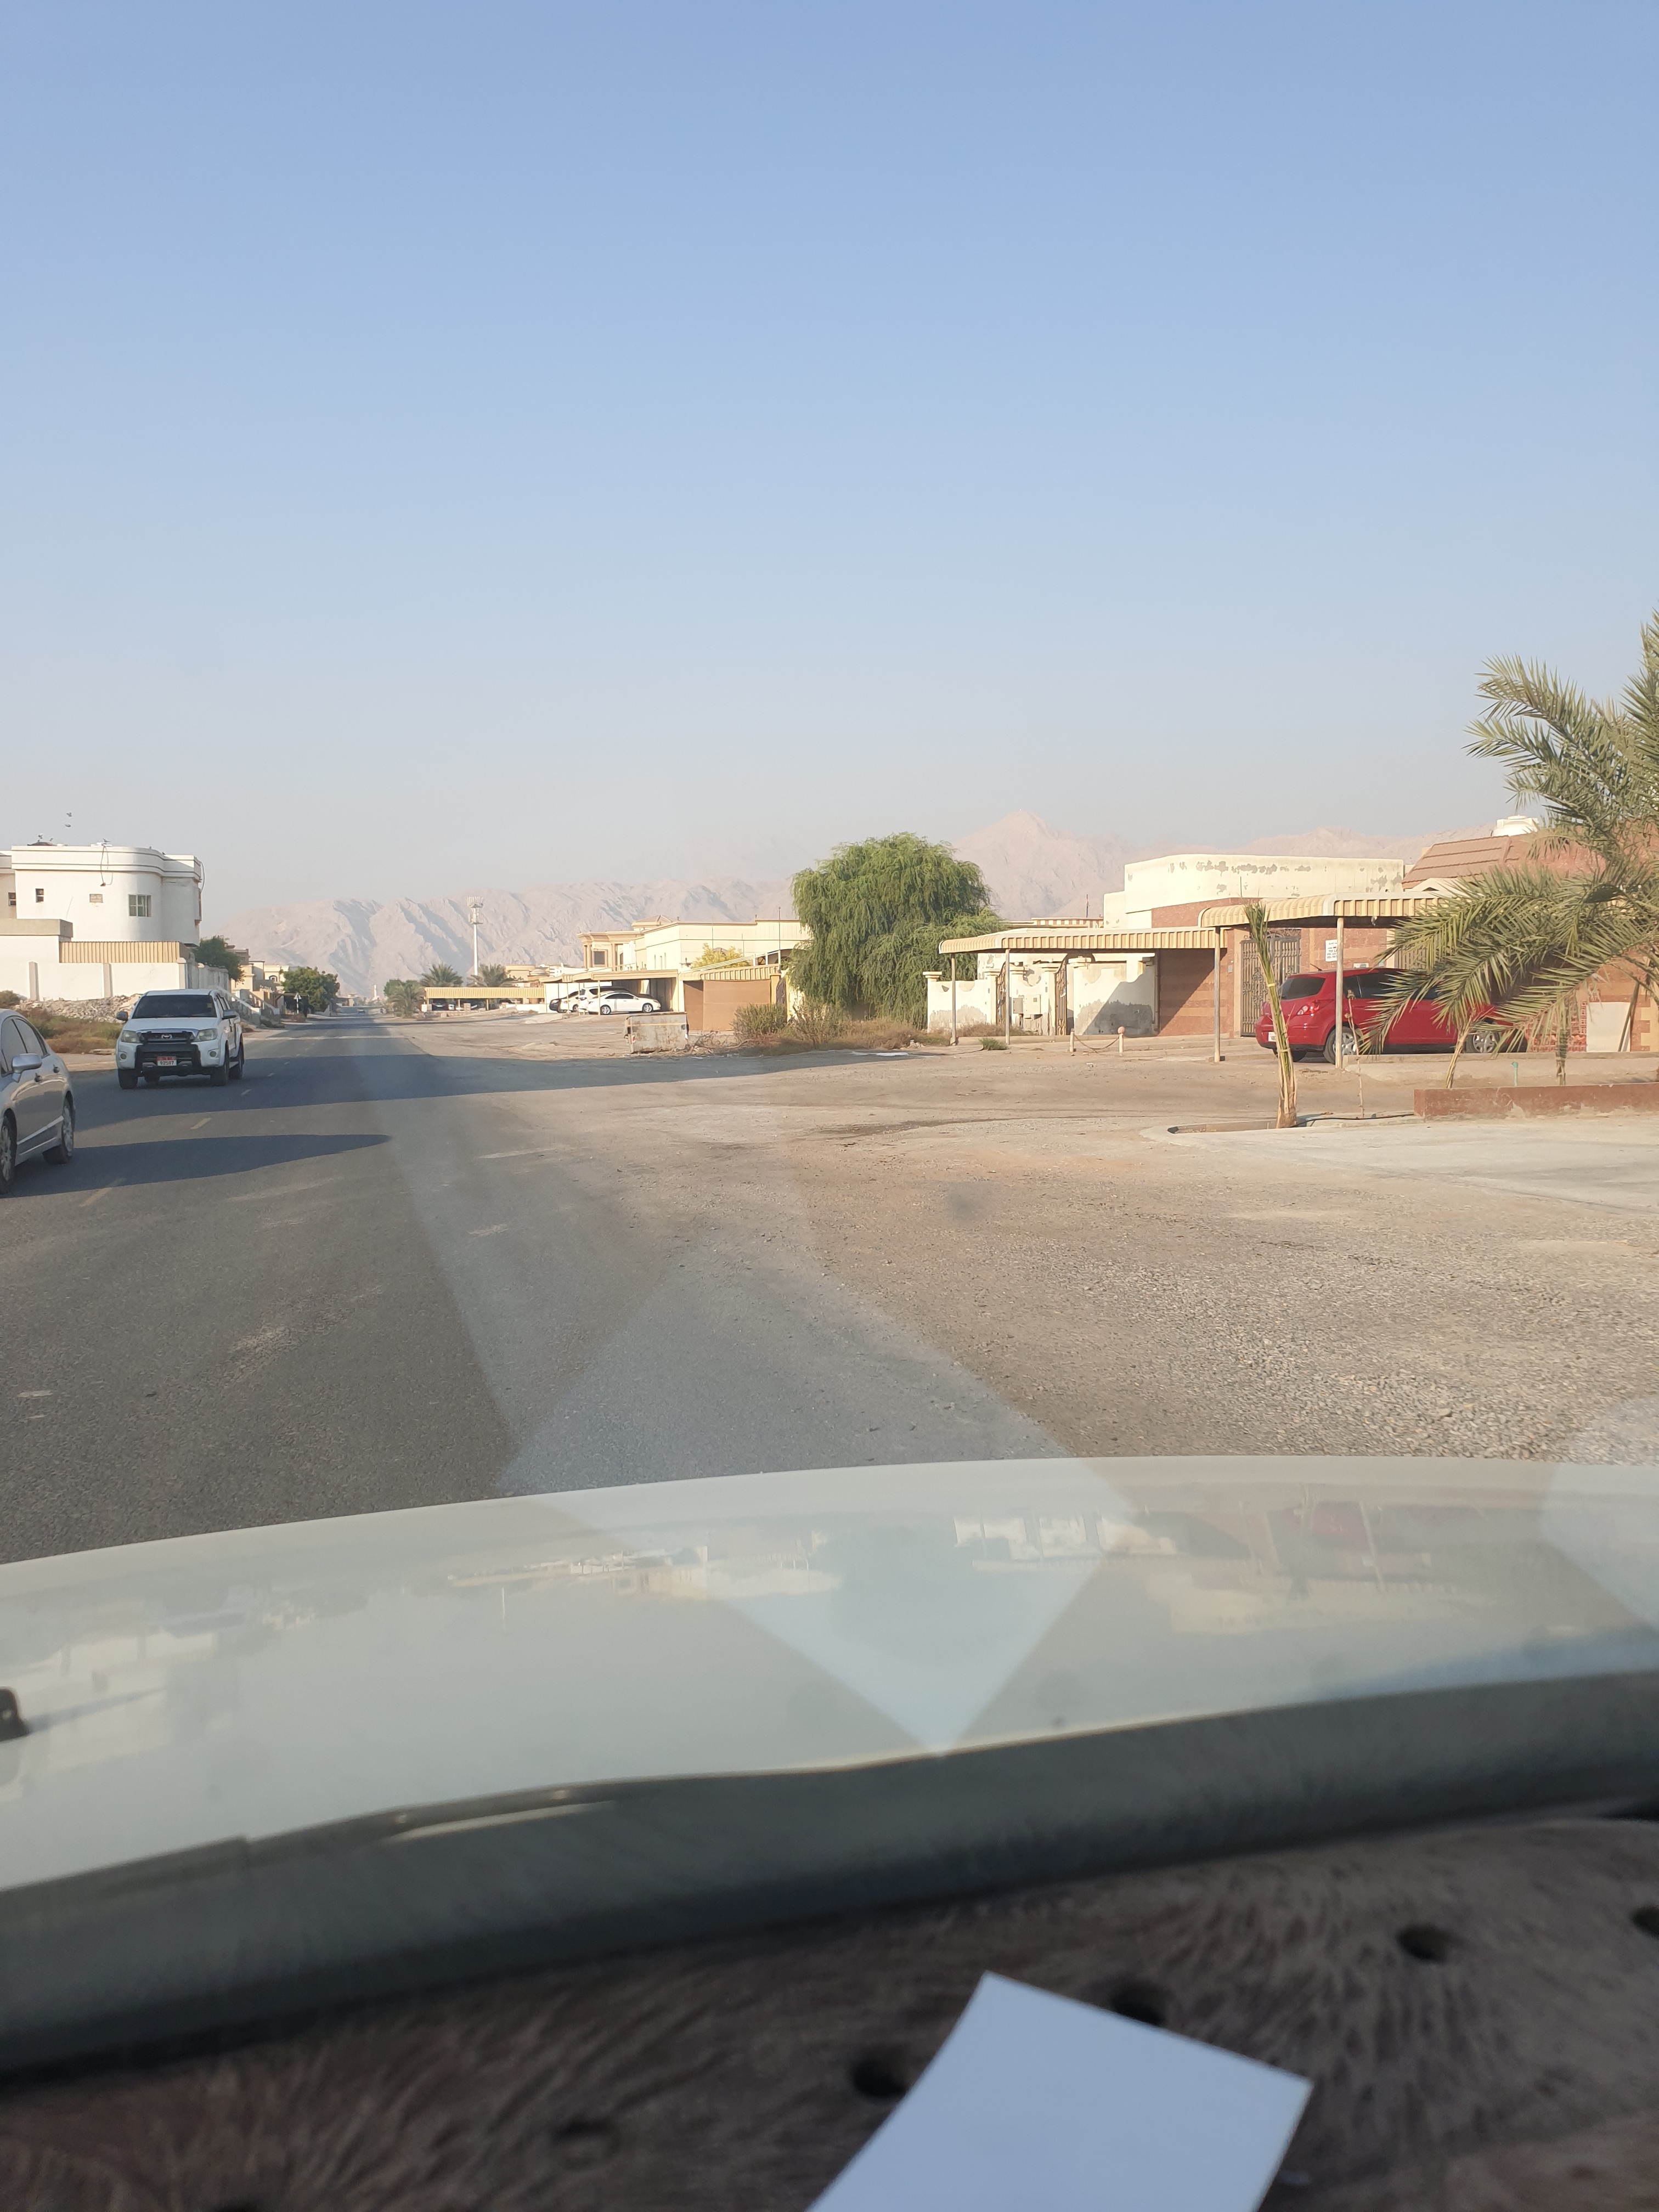fallen_trees: (697, 1031, 762, 1052)
